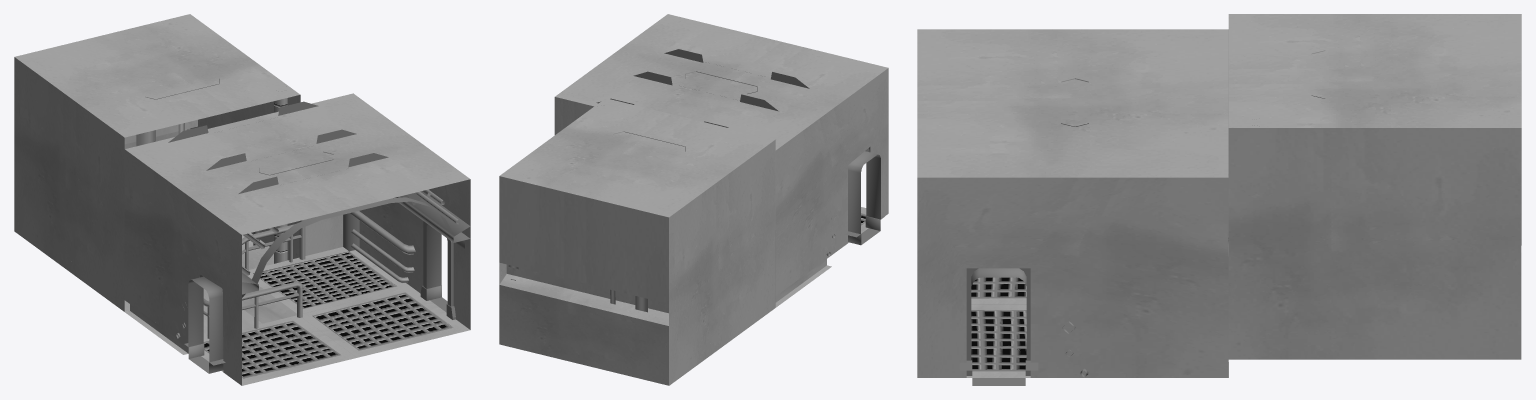
The model's file is MSH_Fusion_reactor_room_L1_R1_optimized.fbx.
3 views of the same model, side by side, from view 1: azimuth 30°, elevation 25°; view 2: azimuth 150°, elevation 25°; view 3: azimuth 270°, elevation 25° (orthographic). The views are drawn at different scales.
Visible parts, largest first — view 1: lightmap1, lightmap0, lightmap-1; view 2: lightmap1, lightmap-1, lightmap0; view 3: lightmap1, lightmap-1.
Part boxes in pixels (x1,y1,x2,y2): lightmap1: [14, 14, 470, 385]; lightmap0: [136, 79, 470, 338]; lightmap-1: [188, 224, 447, 373]; lightmap1: [499, 14, 888, 385]; lightmap-1: [848, 151, 880, 245]; lightmap0: [508, 49, 835, 312]; lightmap1: [917, 14, 1521, 377]; lightmap-1: [971, 268, 1026, 385].
Bounding box in the file's own units: 10.3 × 6.81 × 16.03.
